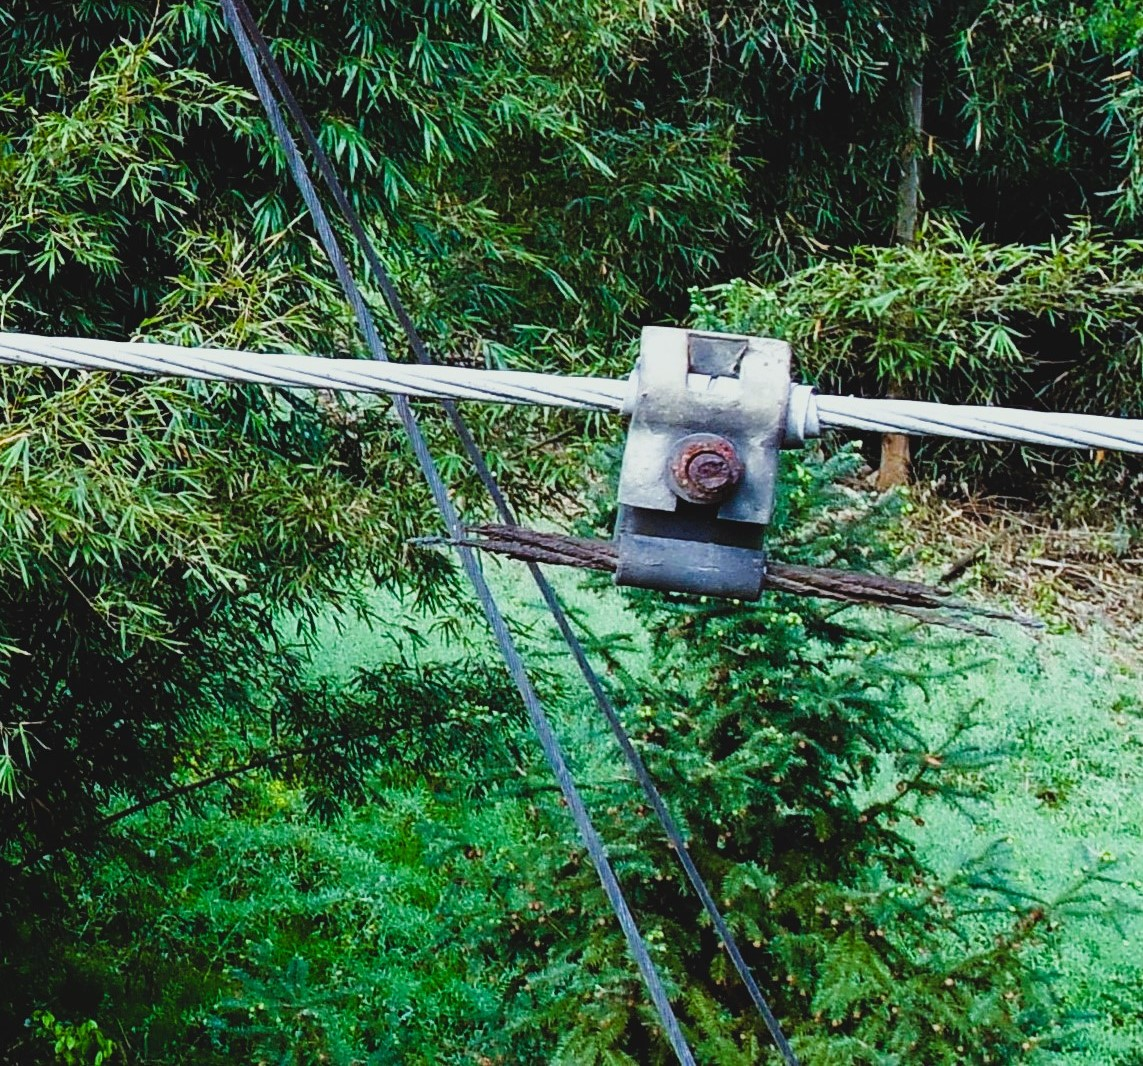Damage of shockproof hammer: (434, 304, 1018, 675)
